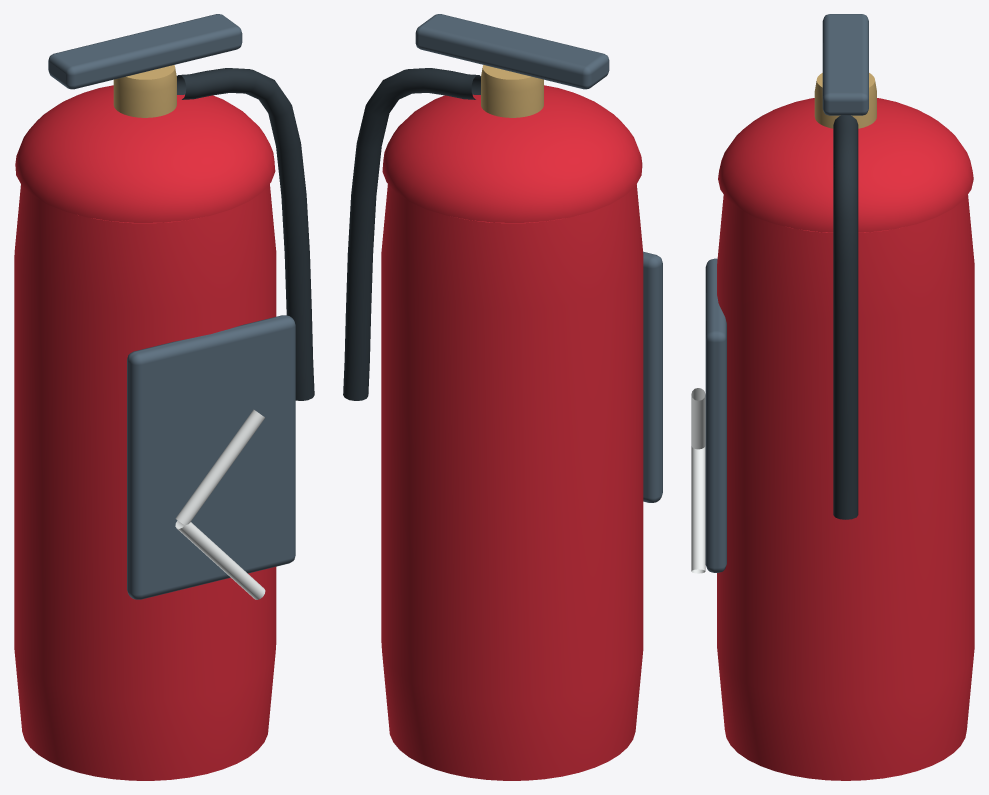
File: fire-unconfirmed.glb
3 views of the same model, side by side, from view 1: azimuth 30°, elevation 25°; view 2: azimuth 150°, elevation 25°; view 3: azimuth 270°, elevation 25° (orthographic).
Visible parts, largest first — view 1: fire-unconfirmed; view 2: fire-unconfirmed; view 3: fire-unconfirmed.
Boxes of the visible parts, <box> form: fire-unconfirmed: <box>14,14,314,780</box>; fire-unconfirmed: <box>343,14,662,780</box>; fire-unconfirmed: <box>691,14,974,780</box>.
Size of the model in its own units: 0.1795 by 0.42 by 0.1595.
